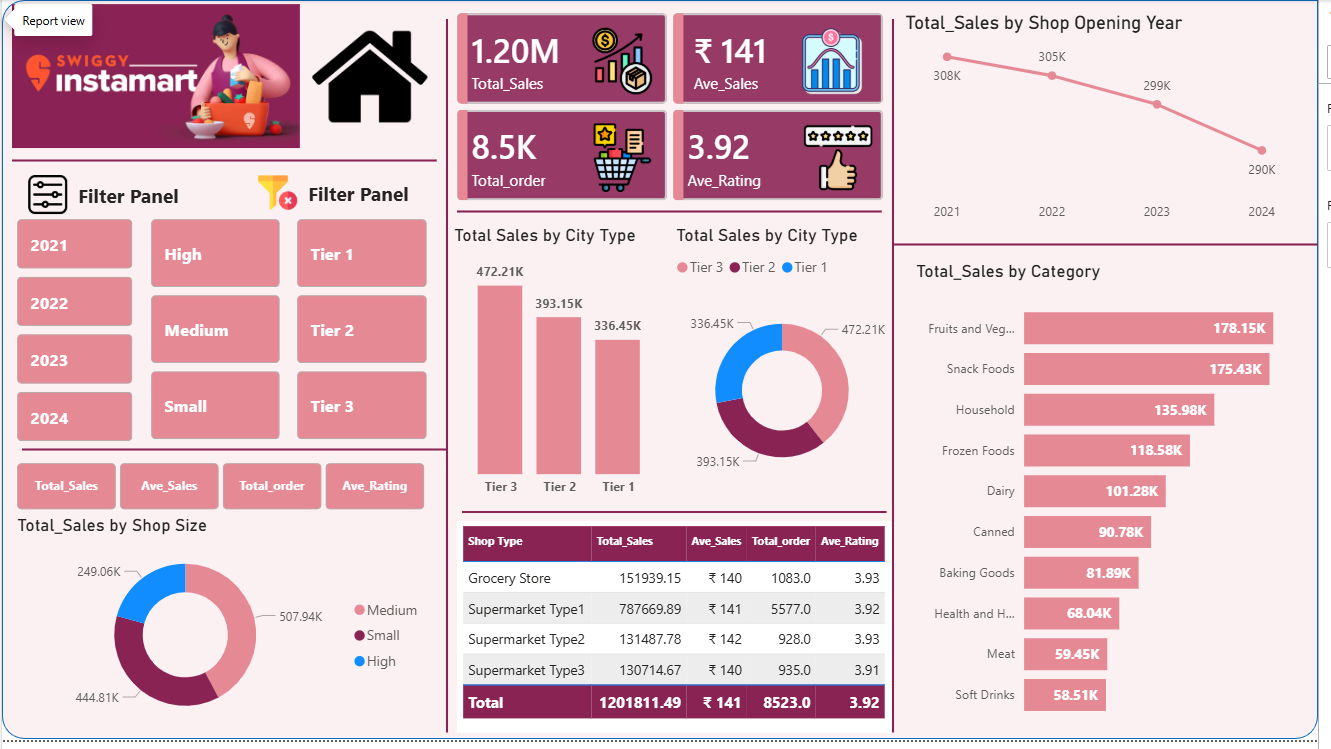

This screenshot's page, from the dashboard's own definition file:
{"tool":"powerbi","page":{"name":"Instamark_data","canvas":[1280,720],"ordinal":0},"visuals":[{"type":"shape","box":[0,12.6,1280,707.1],"z":0},{"type":"image","box":[9.7,23.3,275.3,134.2],"z":1000},{"type":"cardVisual","fields":{"Data":["Grocery Shop.Total Sales","Grocery Shop.Ave_Sales","Grocery Shop.Total_Order","Grocery Shop.Avg_Rating"]},"box":[450.3,12.6,479.5,219.8],"z":2000},{"type":"advancedSlicerVisual","fields":{"Values":["Matric.Matric"]},"box":[14.6,419.2,415.3,43.8],"z":3000},{"type":"donutChart","fields":{"Y":["Grocery Shop.Total Sales"],"Category":["Grocery Shop.Shop Size"]},"box":[9.7,463,415.3,244.1],"z":4000},{"type":"cardVisual","fields":{"Data":["Grocery Shop.Total Sales"]},"box":[132.3,538.8,170.2,145.9],"z":5000},{"type":"clusteredColumnChart","title":"Total Sales by City Type","fields":{"Category":["Grocery Shop.Shop City Type"],"Y":["Grocery Shop.Total Sales"]},"box":[450.3,239.3,220.8,264.6],"z":6000},{"type":"donutChart","title":"Total Sales by City Type","fields":{"Category":["Grocery Shop.Shop City Type"],"Y":["Grocery Shop.Total Sales"]},"box":[693.5,239.3,236.4,264.6],"z":7000},{"type":"tableEx","fields":{"Values":["Grocery Shop.Shop Type","Grocery Shop.Total Sales","Grocery Shop.Ave_Sales","Grocery Shop.Total_Order","Grocery Shop.Avg_Rating"]},"box":[464,521.3,465.9,185.8],"z":8000},{"type":"lineChart","title":"Shop Opening Year Wise","fields":{"Category":["Grocery Shop.Shop Opening Year"],"Y":["Grocery Shop.Total_Order"]},"box":[946.4,12.6,325.8,197.4],"z":9000},{"type":"clusteredBarChart","fields":{"Category":["Grocery Shop.Category"],"Y":["Grocery Shop.Total Sales"]},"box":[946.4,239.3,325.8,480.5],"z":10000},{"type":"advancedSlicerVisual","fields":{"Values":["Grocery Shop.Shop Opening Year"]},"box":[13.6,201.3,138.1,201.3],"z":11000},{"type":"advancedSlicerVisual","fields":{"Values":["Grocery Shop.Shop Size"]},"box":[150.8,201.3,138.1,201.3],"z":12000},{"type":"advancedSlicerVisual","fields":{"Values":["Grocery Shop.Shop City Type"]},"box":[290.8,201.3,138.1,201.3],"z":13000},{"type":"textbox","box":[57.4,168.3,127.4,35],"z":14000},{"type":"image","box":[12.6,171.2,45.7,28.2],"z":15000},{"type":"textbox","box":[270.4,168.3,127.4,35],"z":16000},{"type":"image","box":[370.6,165.3,51.6,39.9],"z":17000},{"type":"image","box":[313.2,28.2,111.9,94.3],"z":18000},{"type":"shape","box":[14.6,144,414.3,27.2],"z":19000},{"type":"shape","box":[15.6,393.9,414.3,27.2],"z":20000},{"type":"shape","box":[426,12.6,24.3,694.5],"z":21000},{"type":"shape","box":[929.8,25.3,24.3,694.5],"z":22000},{"type":"shape","box":[450.3,218.8,479.5,27.2],"z":23000},{"type":"shape","box":[453.3,494.1,479.5,27.2],"z":24000},{"type":"shape","box":[954.2,205.2,325.8,27.2],"z":25000},{"type":"image","box":[583.6,39.9,87.5,71],"z":25001},{"type":"image","box":[840.4,39.9,75.9,57.4],"z":25002},{"type":"image","box":[603,138.1,72.9,72],"z":25003},{"type":"image","box":[814.1,144,102.1,65.2],"z":25004}]}

Visuals, with their boxes on the page's 1280x720 design canvas (x1, y1, x2, y2). These are canvas units, not pixel positions in the 1331x749 screenshot, which may show the page scaled, cropped or inside an application window:
shape: detection(0, 13, 1280, 720)
image: detection(10, 23, 285, 158)
cardVisual - Grocery Shop.Total Sales x Grocery Shop.Ave_Sales: detection(450, 13, 930, 232)
advancedSlicerVisual - Matric.Matric: detection(15, 419, 430, 463)
donutChart - Grocery Shop.Total Sales x Grocery Shop.Shop Size: detection(10, 463, 425, 707)
cardVisual - Grocery Shop.Total Sales: detection(132, 539, 302, 685)
"Total Sales by City Type" clusteredColumnChart: detection(450, 239, 671, 504)
"Total Sales by City Type" donutChart: detection(694, 239, 930, 504)
tableEx - Grocery Shop.Shop Type x Grocery Shop.Total Sales: detection(464, 521, 930, 707)
"Shop Opening Year Wise" lineChart: detection(946, 13, 1272, 210)
clusteredBarChart - Grocery Shop.Category x Grocery Shop.Total Sales: detection(946, 239, 1272, 720)
advancedSlicerVisual - Grocery Shop.Shop Opening Year: detection(14, 201, 152, 403)
advancedSlicerVisual - Grocery Shop.Shop Size: detection(151, 201, 289, 403)
advancedSlicerVisual - Grocery Shop.Shop City Type: detection(291, 201, 429, 403)
textbox: detection(57, 168, 185, 203)
image: detection(13, 171, 58, 199)
textbox: detection(270, 168, 398, 203)
image: detection(371, 165, 422, 205)
image: detection(313, 28, 425, 122)
shape: detection(15, 144, 429, 171)
shape: detection(16, 394, 430, 421)
shape: detection(426, 13, 450, 707)
shape: detection(930, 25, 954, 720)
shape: detection(450, 219, 930, 246)
shape: detection(453, 494, 933, 521)
shape: detection(954, 205, 1280, 232)
image: detection(584, 40, 671, 111)
image: detection(840, 40, 916, 97)
image: detection(603, 138, 676, 210)
image: detection(814, 144, 916, 209)
